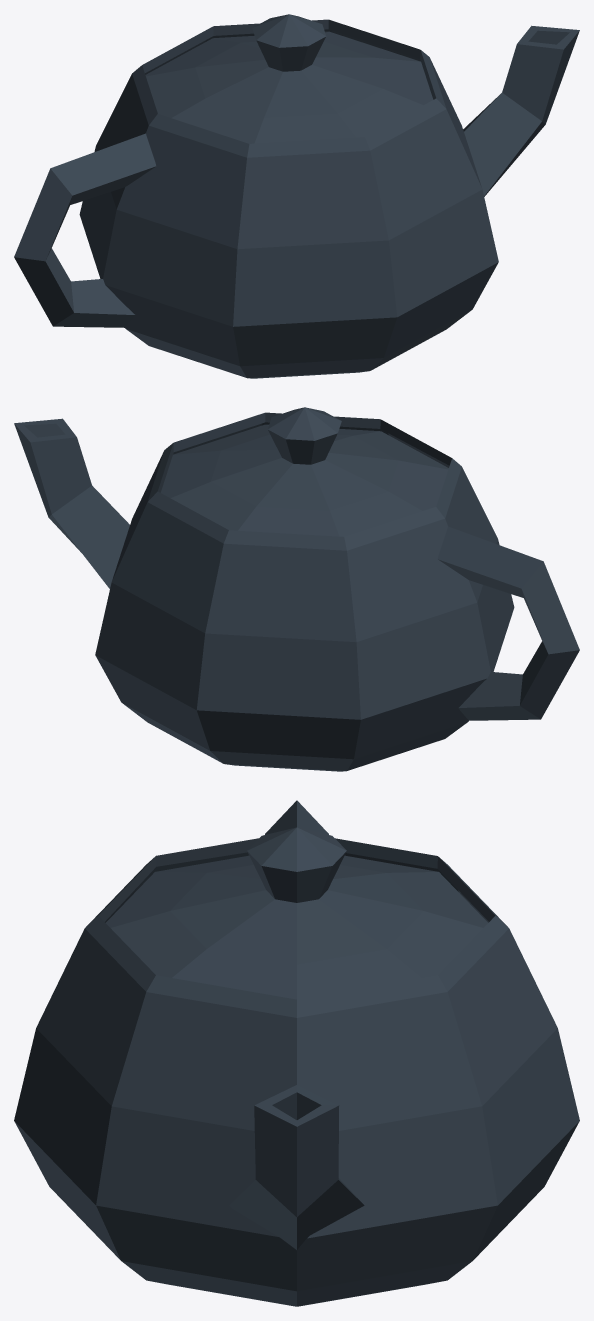
The model's file is teapot.fbx.
3 renders of one model, top to bottom at view 1: azimuth 30°, elevation 25°; view 2: azimuth 150°, elevation 25°; view 3: azimuth 270°, elevation 25°, orthographic. The views are drawn at different scales.
Parts seen in each view (by area): view 1: teapot; view 2: teapot; view 3: teapot.
Part boxes in pixels (x1,y1,x2,y2): teapot: (14, 14, 579, 378); teapot: (14, 407, 579, 771); teapot: (14, 800, 579, 1306).
Size of the model in its own units: 48.38 by 25.5 by 32.
1 material, 1 textured.
